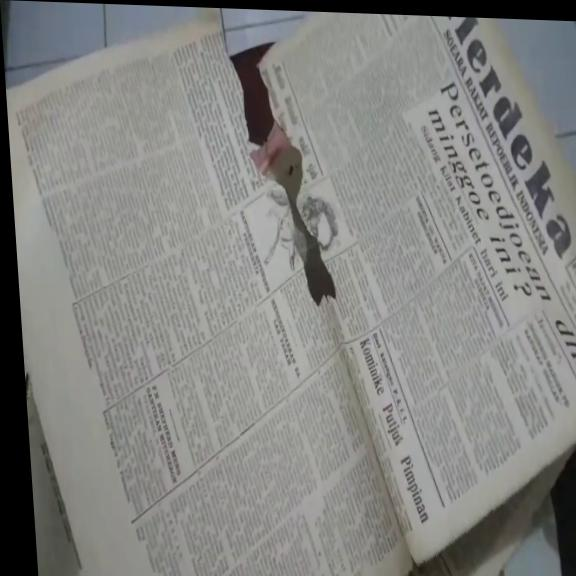Kertas: (260, 10, 576, 576), (12, 10, 279, 315), (264, 10, 469, 254)
